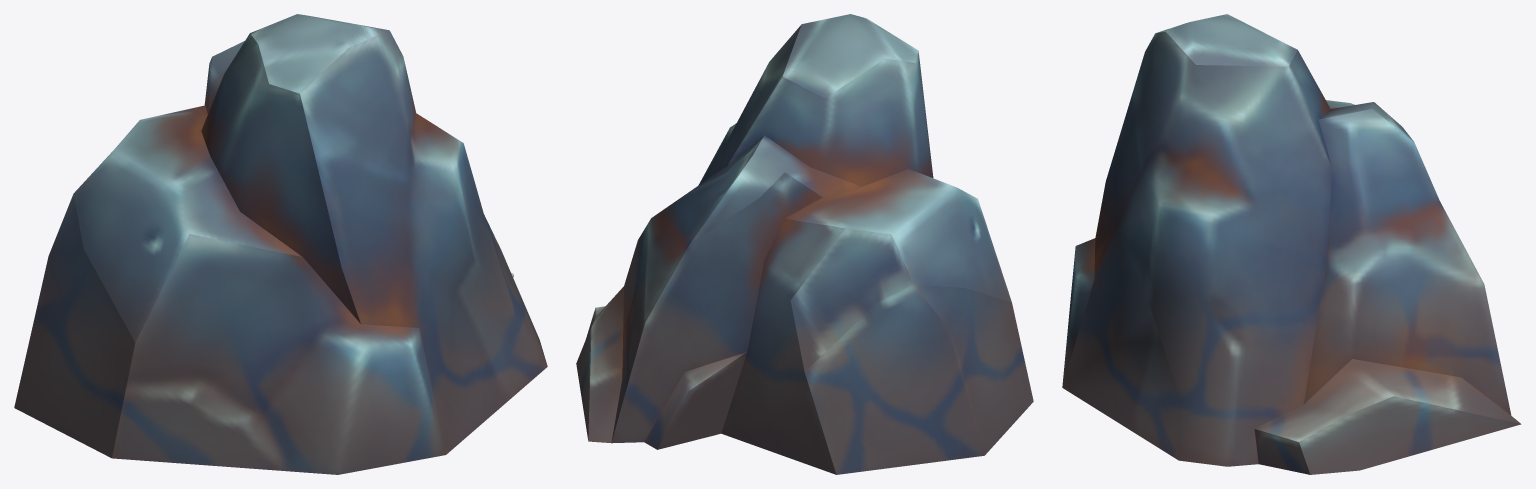
File: field_rocks_iron_07.fbx
3 views of the same model, side by side, from view 1: azimuth 30°, elevation 25°; view 2: azimuth 150°, elevation 25°; view 3: azimuth 270°, elevation 25° (orthographic). The views are drawn at different scales.
Visible parts, largest first — view 1: field_rocks_iron_07; view 2: field_rocks_iron_07; view 3: field_rocks_iron_07.
Boxes of the visible parts, x1,y1,x2,y2 form: field_rocks_iron_07: (14,14,547,474); field_rocks_iron_07: (576,14,1033,474); field_rocks_iron_07: (1062,14,1521,474).
Bounding box in the file's own units: 104 × 80.75 × 95.67.
